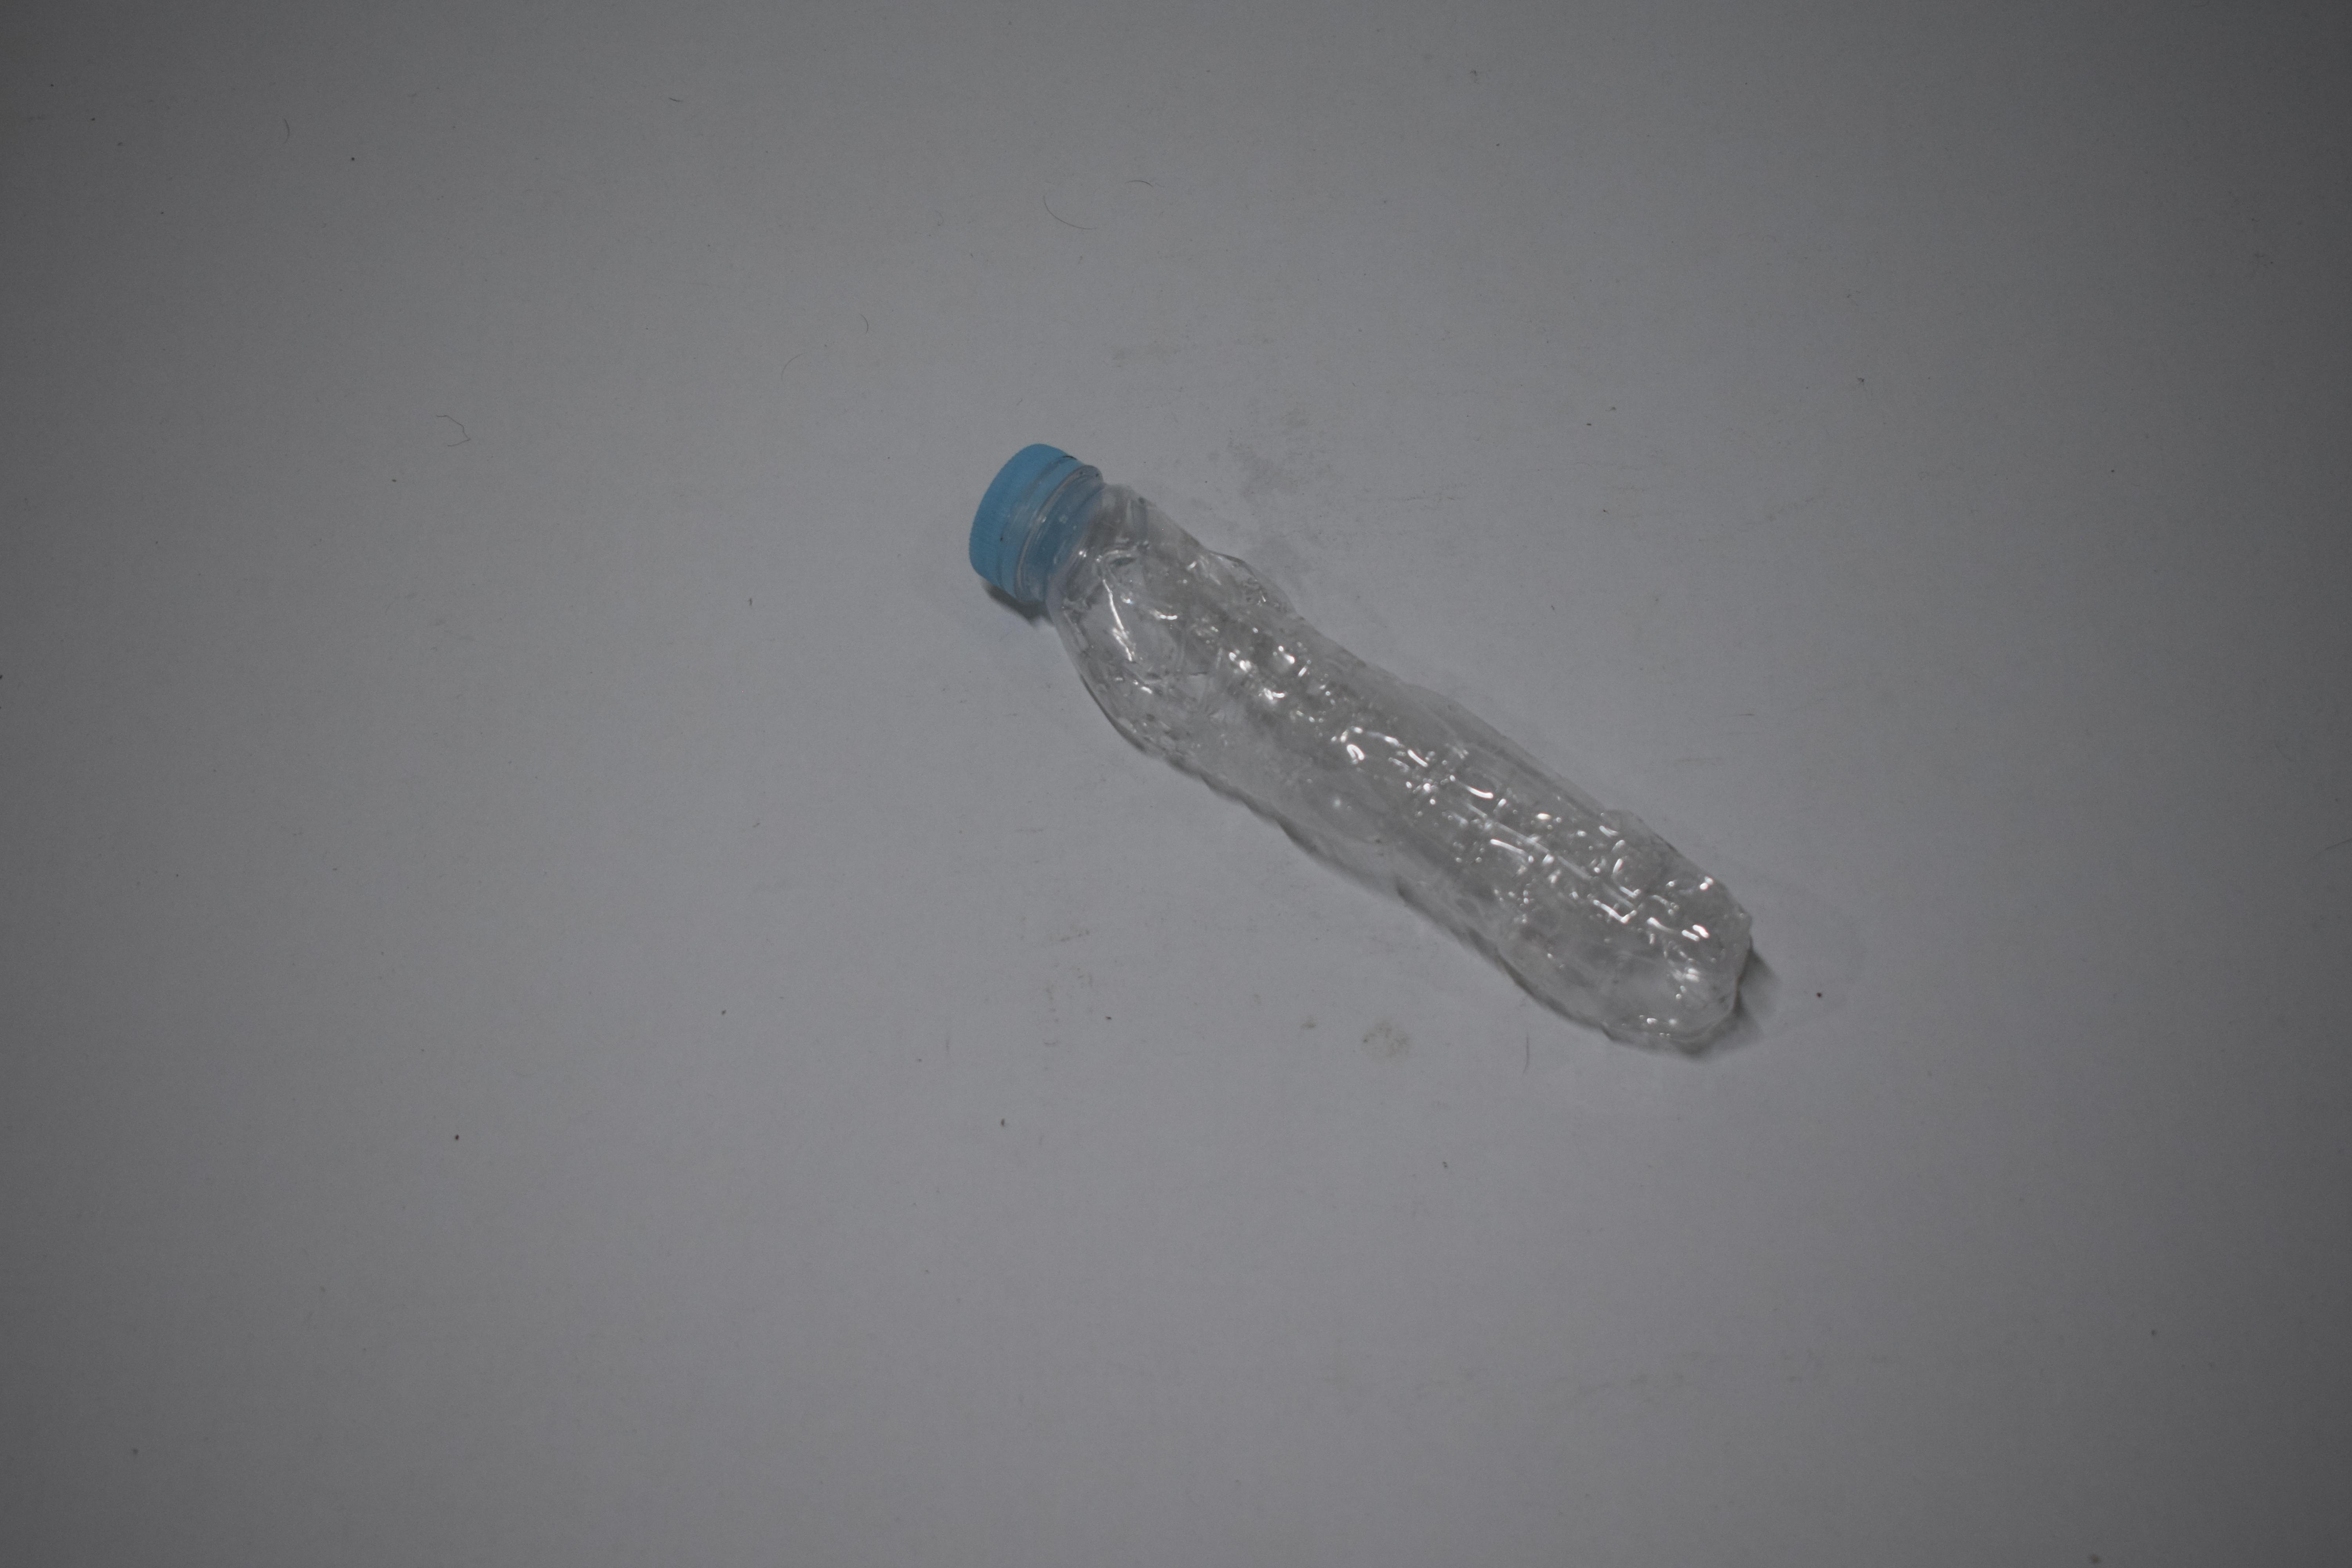bottle: (0, 434, 585, 1062)
